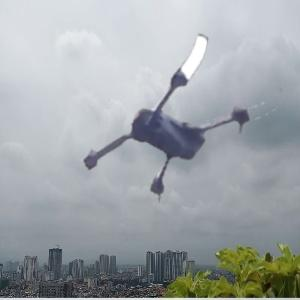drone: (72, 10, 285, 223)
